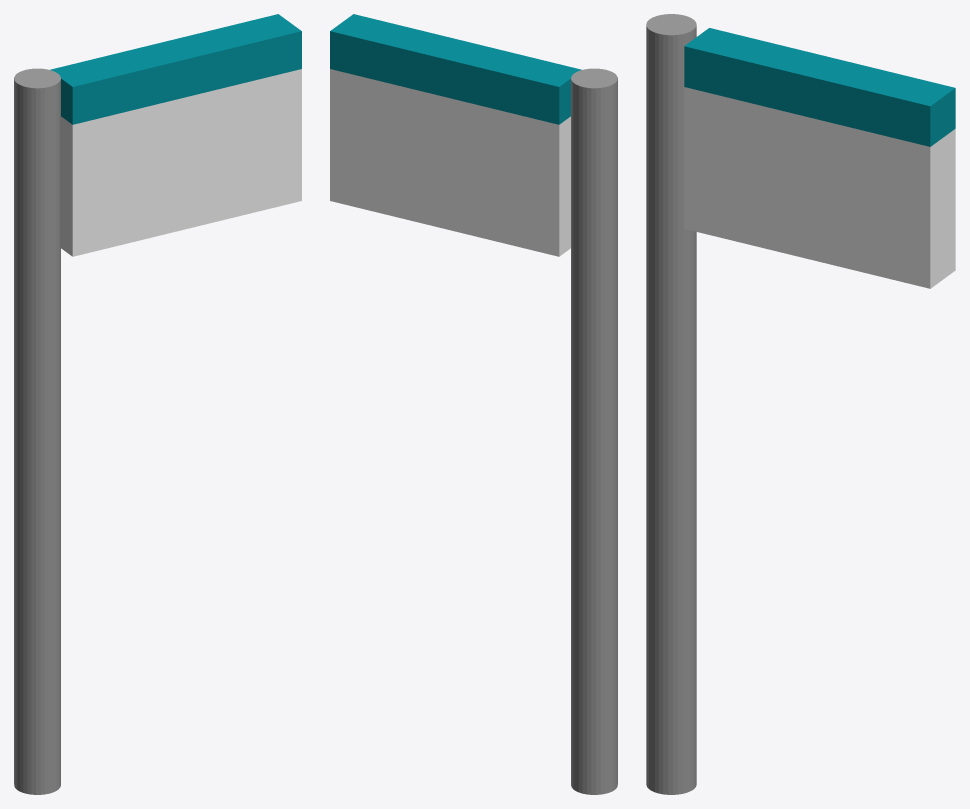
File: station.glb
3 renders of one model, left to right at view 1: azimuth 30°, elevation 25°; view 2: azimuth 150°, elevation 25°; view 3: azimuth 330°, elevation 25°, orthographic. The views are drawn at different scales.
Visible parts, largest first — view 1: Cube, Cylinder; view 2: Cube, Cylinder; view 3: Cube, Cylinder.
Part boxes in pixels (x1=…): Cube: x1=50, y1=14, x2=301, y2=256; Cylinder: x1=14, y1=68, x2=60, y2=794; Cube: x1=330, y1=14, x2=581, y2=256; Cylinder: x1=571, y1=68, x2=617, y2=794; Cube: x1=684, y1=28, x2=955, y2=288; Cylinder: x1=646, y1=14, x2=696, y2=794.
Bounding box in the file's own units: 3.36 × 8.32 × 0.5.
